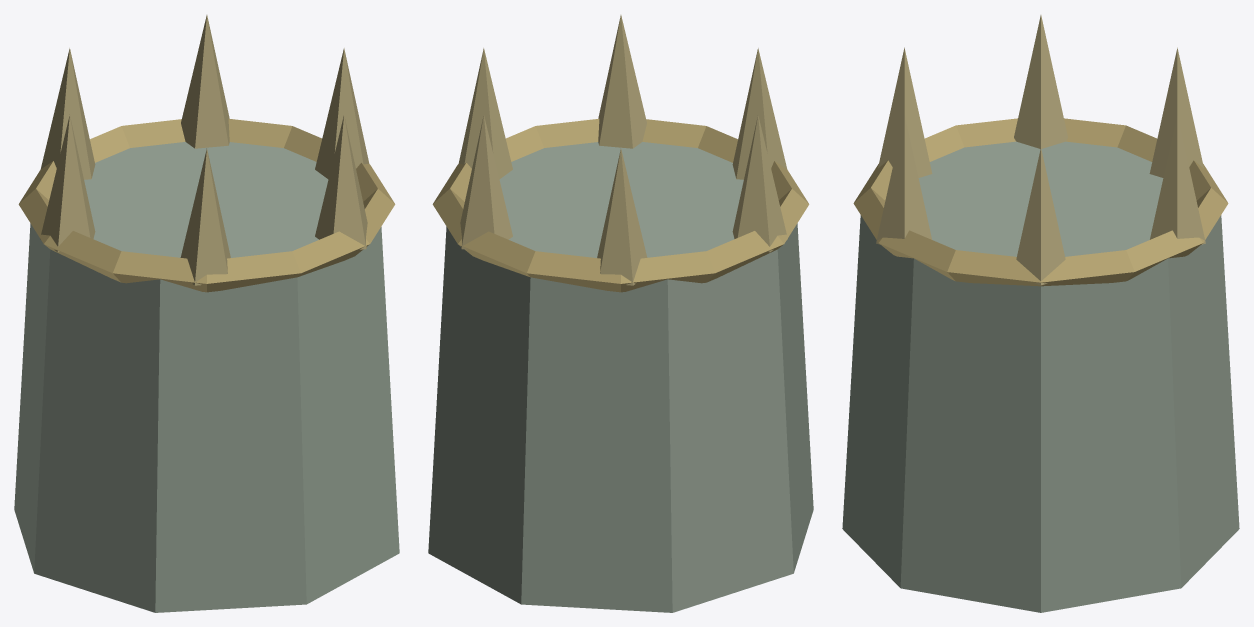
The model's file is map-exclusive-v3__champion_07.glb.
The picture shows the model from 3 angles, left to right: view 1: azimuth 30°, elevation 25°; view 2: azimuth 150°, elevation 25°; view 3: azimuth 270°, elevation 25°; orthographic projection.
Parts seen in each view (by area): view 1: champion_07; view 2: champion_07; view 3: champion_07.
Boxes of the visible parts, x1,y1,x2,y2 form: champion_07: [14, 15, 399, 612]; champion_07: [428, 15, 813, 612]; champion_07: [842, 15, 1239, 612].
Size of the model in its own units: 1.26 by 1.57 by 1.26.
